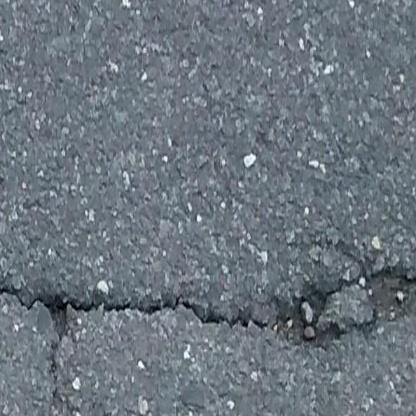Cracks: (0, 243, 303, 381), (257, 233, 416, 356), (31, 276, 81, 416)
